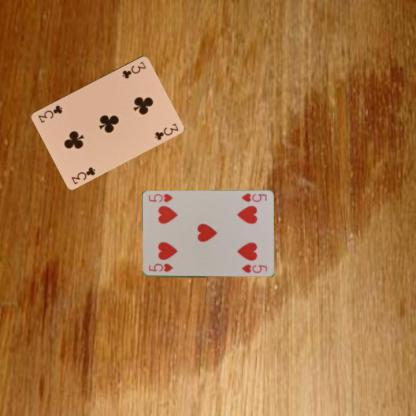3c: (120, 58, 147, 80), (69, 164, 96, 186)
5h: (238, 191, 268, 203), (146, 261, 174, 273)
